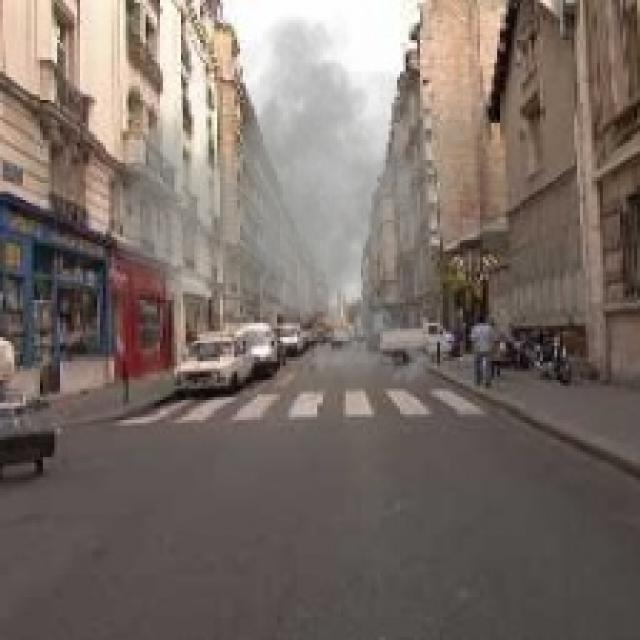smoke: (108, 0, 483, 397)
